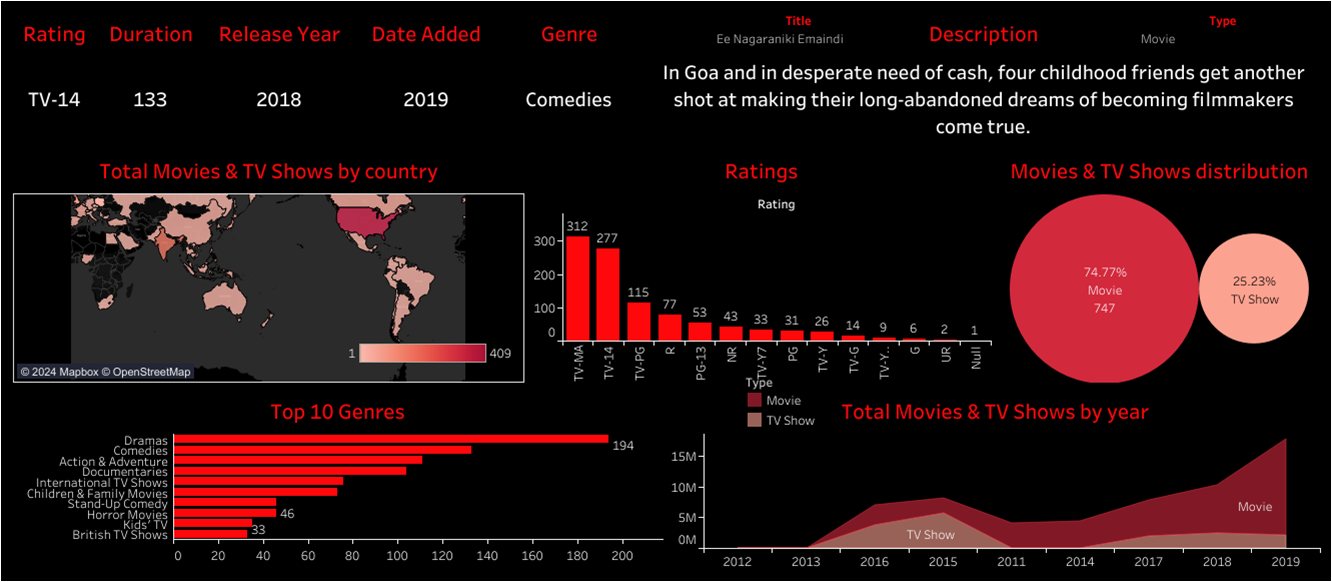

The page's visual inventory and layout, read from the dashboard file:
{"tool":"tableau","page":{"name":"Netflix","canvas":[1330,580],"ordinal":0},"visuals":[{"type":"worksheet","title":"Rating","mark":"Automatic","box":[8,8,91,137]},{"type":"worksheet","title":"Duration","mark":"Automatic","box":[99,8,102,137]},{"type":"worksheet","title":"Release Year","mark":"Automatic","box":[201,8,155,137]},{"type":"worksheet","title":"Date Added","mark":"Automatic","box":[356,8,138,137]},{"type":"worksheet","title":"Genre","mark":"Automatic","box":[494,8,148,137]},{"type":"worksheet","title":"Description","mark":"Automatic","box":[642,8,680,137]},{"type":"filter","title":"Description","param":"[federated.1eyfpny15vn70i19xi4bh1921j2k].[none:title:nk]","box":[713,9,168,52]},{"type":"filter","title":"Description","param":"[federated.1eyfpny15vn70i19xi4bh1921j2k].[none:type:nk]","box":[1137,9,168,52]},{"type":"worksheet","title":"Total Movies & TV Shows by country","mark":"Multipolygon","box":[8,145,518.7,239.6]},{"type":"worksheet","title":"Ratings","mark":"Automatic","rows":["show_id"],"cols":["rating"],"box":[526.7,145,466.7,239.6]},{"type":"worksheet","title":"Movies & TV Shows distribution","mark":"Circle","box":[993.4,145,328.6,239.6]},{"type":"legend","title":"Total Movies & TV Shows by country","param":"[federated.1eyfpny15vn70i19xi4bh1921j2k].[ctd:show_id:qk]","box":[343,338,172,38]},{"type":"legend","title":"Total Movies & TV Shows by year","param":"[federated.1eyfpny15vn70i19xi4bh1921j2k].[none:type:nk]","box":[743,368.7,124.1,60.1]},{"type":"worksheet","title":"Top 10 Genre","mark":"Automatic","rows":["listed_in"],"cols":["show_id"],"box":[8,384.6,657,187.4]},{"type":"worksheet","title":"Total Movies & TV Shows by year","mark":"Area","rows":["show_id"],"cols":["date_added"],"box":[665,384.6,657,187.4]}]}

Visuals, with their boxes in screenshot pixels (x1, y1, x2, y2), scaled from the page's 1330x580 canvas onto the 1332x582 screenshot:
"Rating" worksheet: (left=8, top=8, right=99, bottom=145)
"Duration" worksheet: (left=99, top=8, right=201, bottom=145)
"Release Year" worksheet: (left=201, top=8, right=357, bottom=145)
"Date Added" worksheet: (left=357, top=8, right=495, bottom=145)
"Genre" worksheet: (left=495, top=8, right=643, bottom=145)
"Description" worksheet: (left=643, top=8, right=1324, bottom=145)
"Description" filter: (left=714, top=9, right=882, bottom=61)
"Description" filter: (left=1139, top=9, right=1307, bottom=61)
"Total Movies & TV Shows by country" worksheet (Multipolygon marks): (left=8, top=145, right=527, bottom=386)
"Ratings" worksheet: (left=527, top=145, right=995, bottom=386)
"Movies & TV Shows distribution" worksheet (Circle marks): (left=995, top=145, right=1324, bottom=386)
"Total Movies & TV Shows by country" legend: (left=344, top=339, right=516, bottom=377)
"Total Movies & TV Shows by year" legend: (left=744, top=370, right=868, bottom=430)
"Top 10 Genre" worksheet: (left=8, top=386, right=666, bottom=574)
"Total Movies & TV Shows by year" worksheet (Area marks): (left=666, top=386, right=1324, bottom=574)
